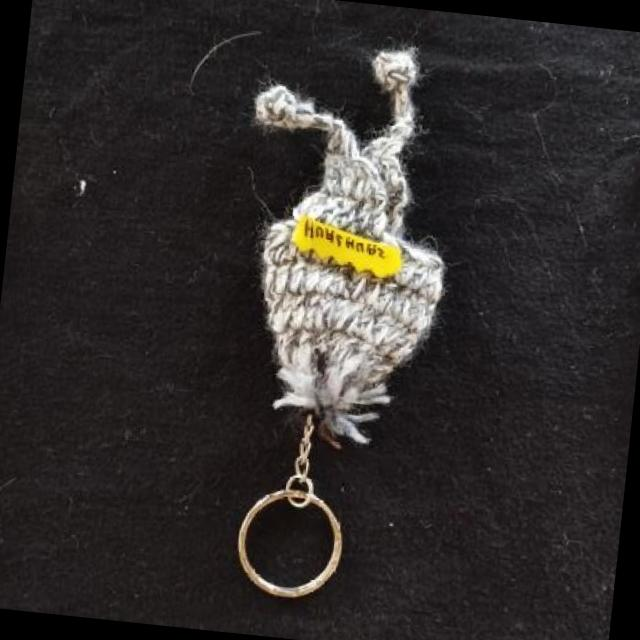Llavero: (217, 30, 470, 459)
